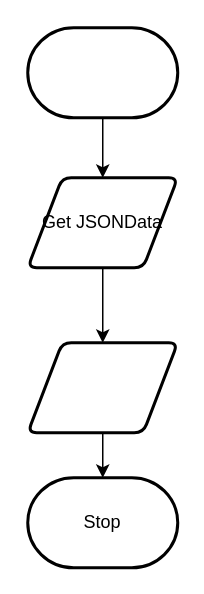
Some shapes in this 204 by 594 pixel diagram are drawn without their labels. The shapes that lost their labels are listed below. From the top down, each one's box as (x1, y1, x2, y2) in pixels, then its label:
(26, 26, 178, 118): Start
(26, 340, 178, 434): Output
